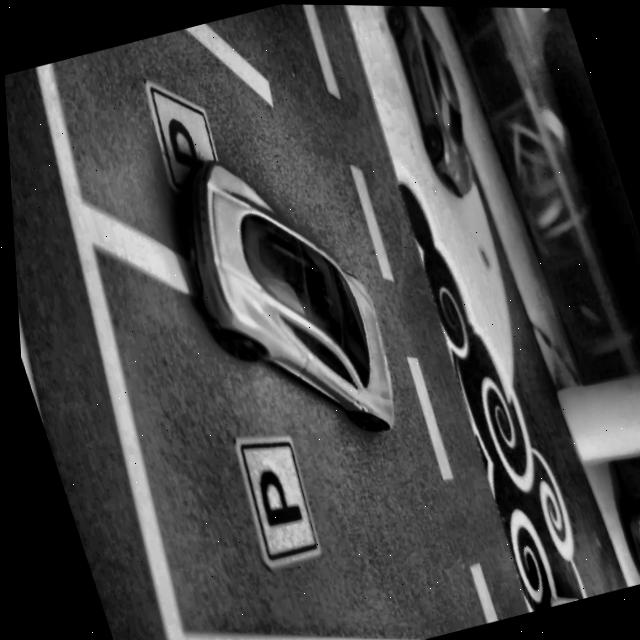car: (153, 128, 409, 466), (375, 4, 488, 202), (608, 483, 640, 581)
